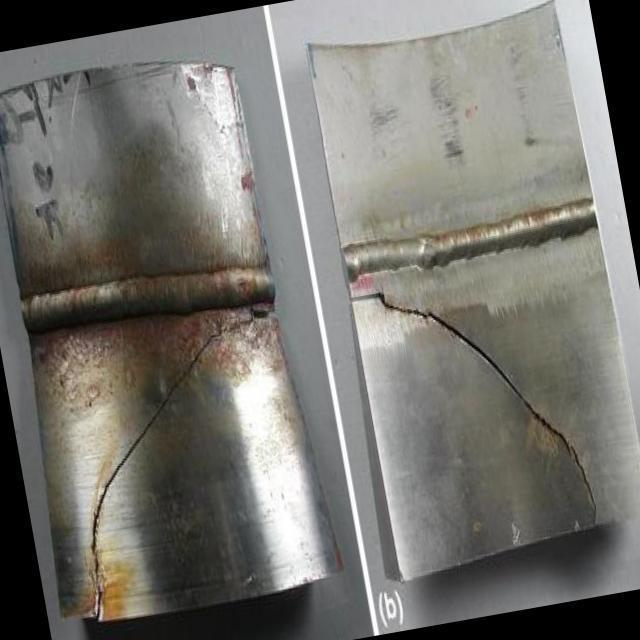defect: (346, 288, 599, 534), (87, 302, 277, 629)
